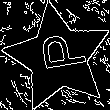P_W: (30, 35, 86, 80)
